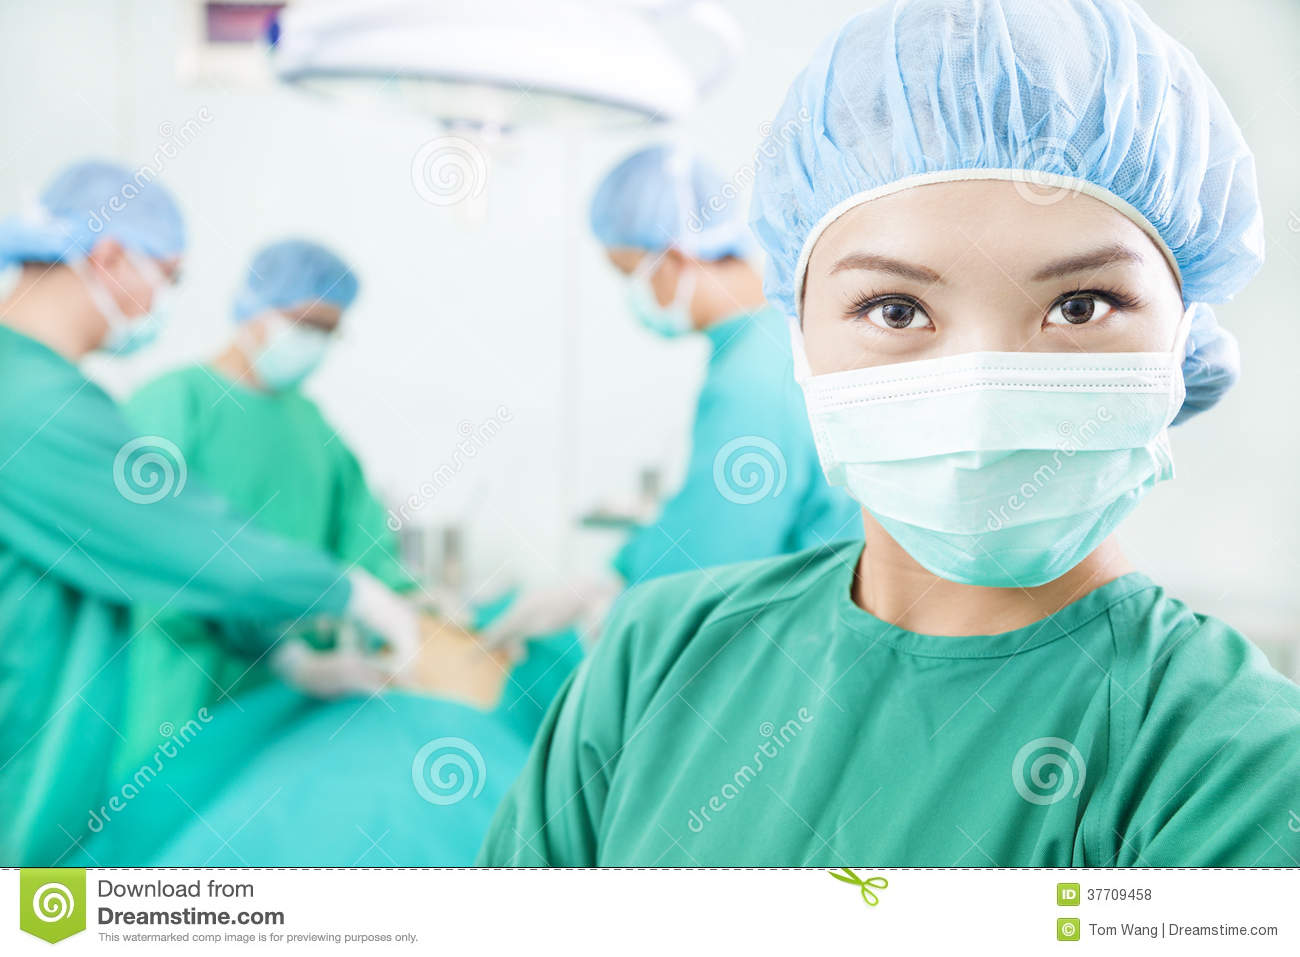mask: (800, 367, 1188, 577)
